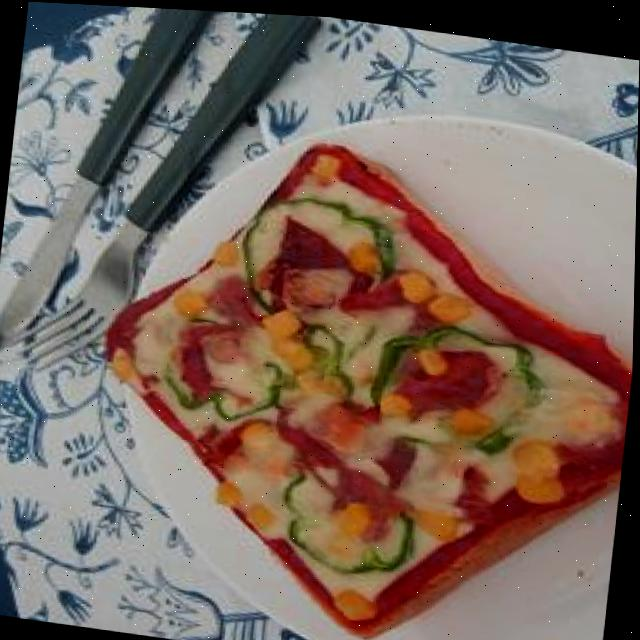面包点心: (89, 63, 639, 640)
